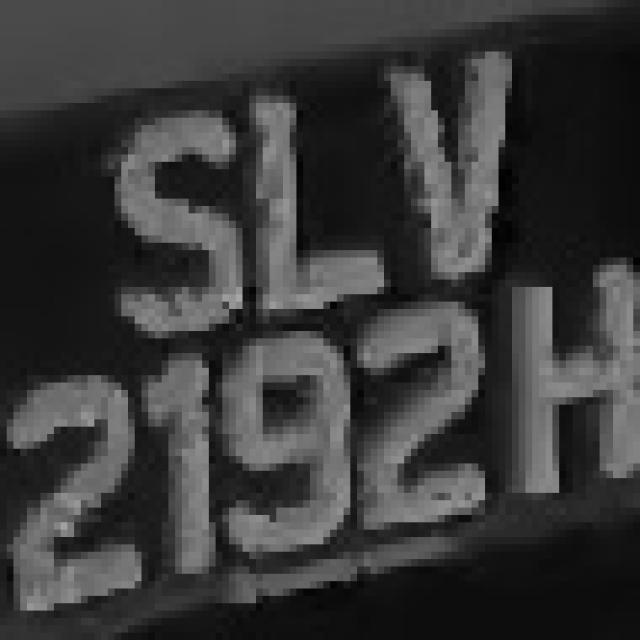1: (148, 338, 229, 596)
2: (0, 353, 141, 618), (357, 302, 499, 559)
9: (236, 324, 357, 596)
H: (492, 228, 640, 515)
L: (236, 74, 397, 316)
S: (101, 96, 249, 353)
V: (384, 22, 552, 280)
